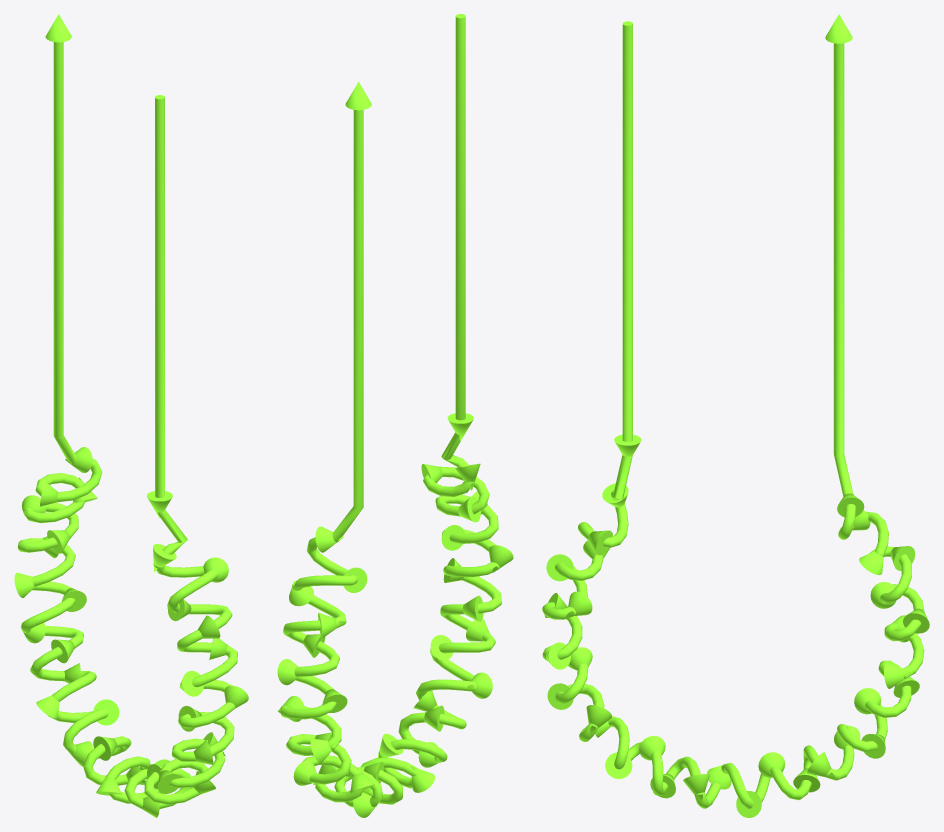
Rendered from side_channel_blower_flow.glb.
The picture shows the model from 3 angles, left to right: view 1: azimuth 30°, elevation 25°; view 2: azimuth 150°, elevation 25°; view 3: azimuth 270°, elevation 25°; orthographic projection. The views are drawn at different scales.
Visible parts, largest first — view 1: helical_flow; view 2: helical_flow; view 3: helical_flow.
Part boxes in pixels (bbox=[...]): helical_flow: bbox=[14, 14, 248, 817]; helical_flow: bbox=[277, 14, 513, 817]; helical_flow: bbox=[542, 14, 929, 817].
Size of the model in its own units: 0.0654 by 0.6533 by 0.2936.
